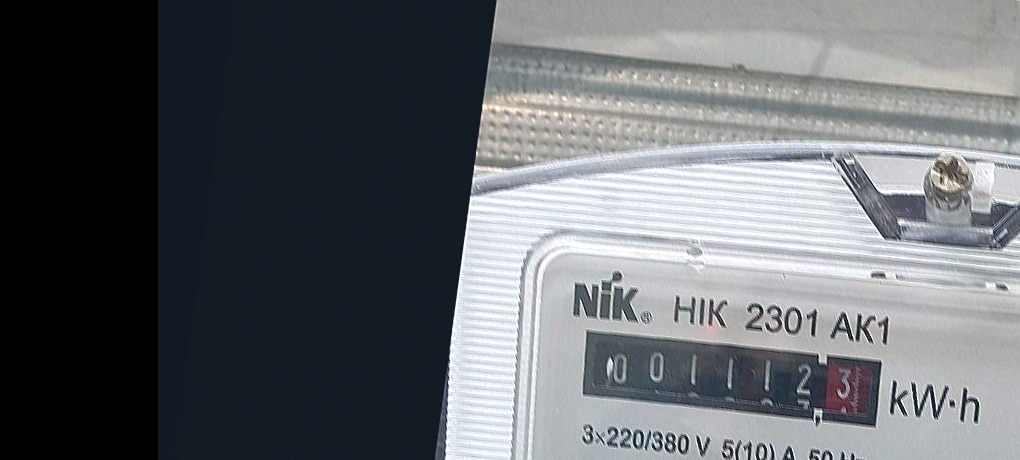0: (642, 347, 668, 388), (605, 350, 632, 387)
1: (681, 350, 703, 390), (718, 354, 737, 393), (756, 357, 775, 395)
2: (789, 361, 816, 400)
3: (830, 366, 853, 403)
screen: (569, 318, 890, 440)
